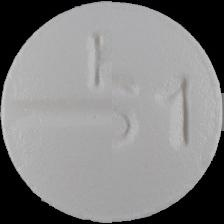68084-758: (0, 0, 224, 224)
